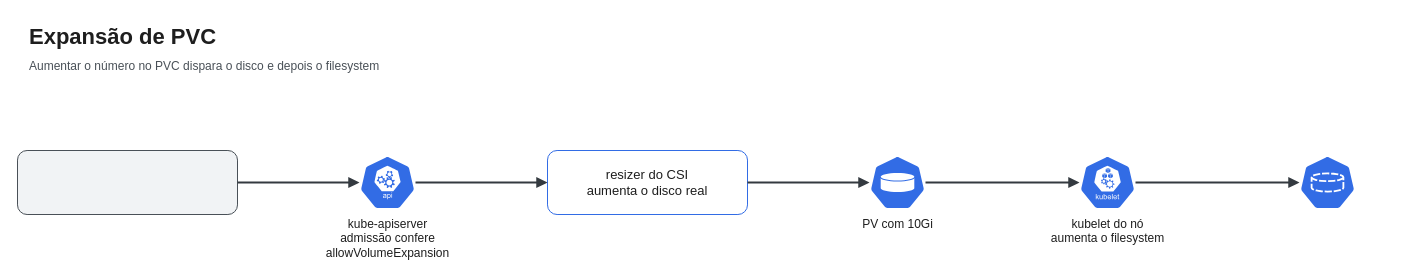
The diagram is 1425 pixels wide and 277 high, and some of its shapes have lost their labels. The box of each missing label's shape, as (x1, y1, x2, y2) in pixels:
kubectl edit/patch PVC 5Gi → 10Gi: (16, 150, 238, 214)
PVC status.capacity 10Gi: (1298, 154, 1356, 210)
